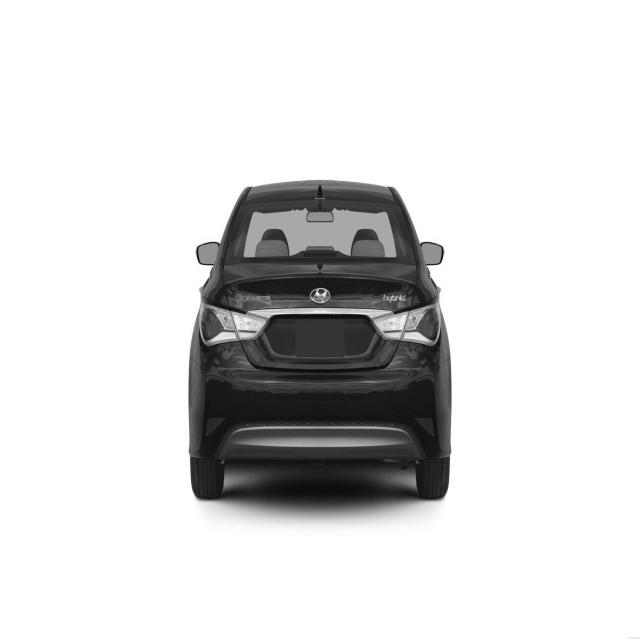car: (188, 178, 452, 502)
